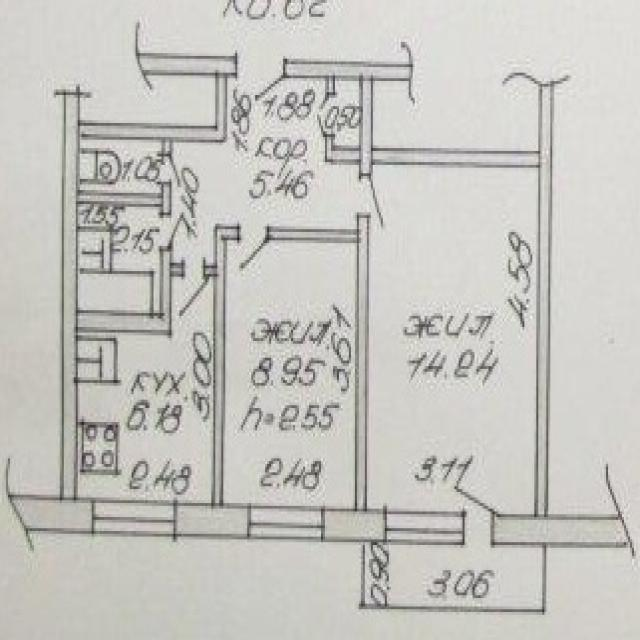Bathrooms: (80, 206, 160, 311), (81, 140, 161, 190)
Corridors: (173, 79, 358, 262), (365, 546, 542, 609), (338, 82, 358, 144)
Doors: (453, 481, 493, 544), (239, 53, 284, 105), (176, 261, 212, 322), (358, 174, 387, 229), (237, 225, 266, 273), (158, 210, 185, 249), (313, 96, 336, 135), (161, 158, 183, 187)
LBwalls: (491, 512, 634, 550), (6, 495, 94, 535), (176, 503, 250, 540), (323, 508, 385, 542)
Offices: (369, 167, 538, 512), (225, 243, 354, 506), (78, 279, 213, 502)
Walls: (283, 60, 554, 515), (60, 52, 239, 499), (266, 213, 370, 509), (203, 224, 241, 503), (77, 248, 185, 335)
Windows: (93, 499, 174, 538), (385, 510, 465, 544), (249, 506, 322, 539)
